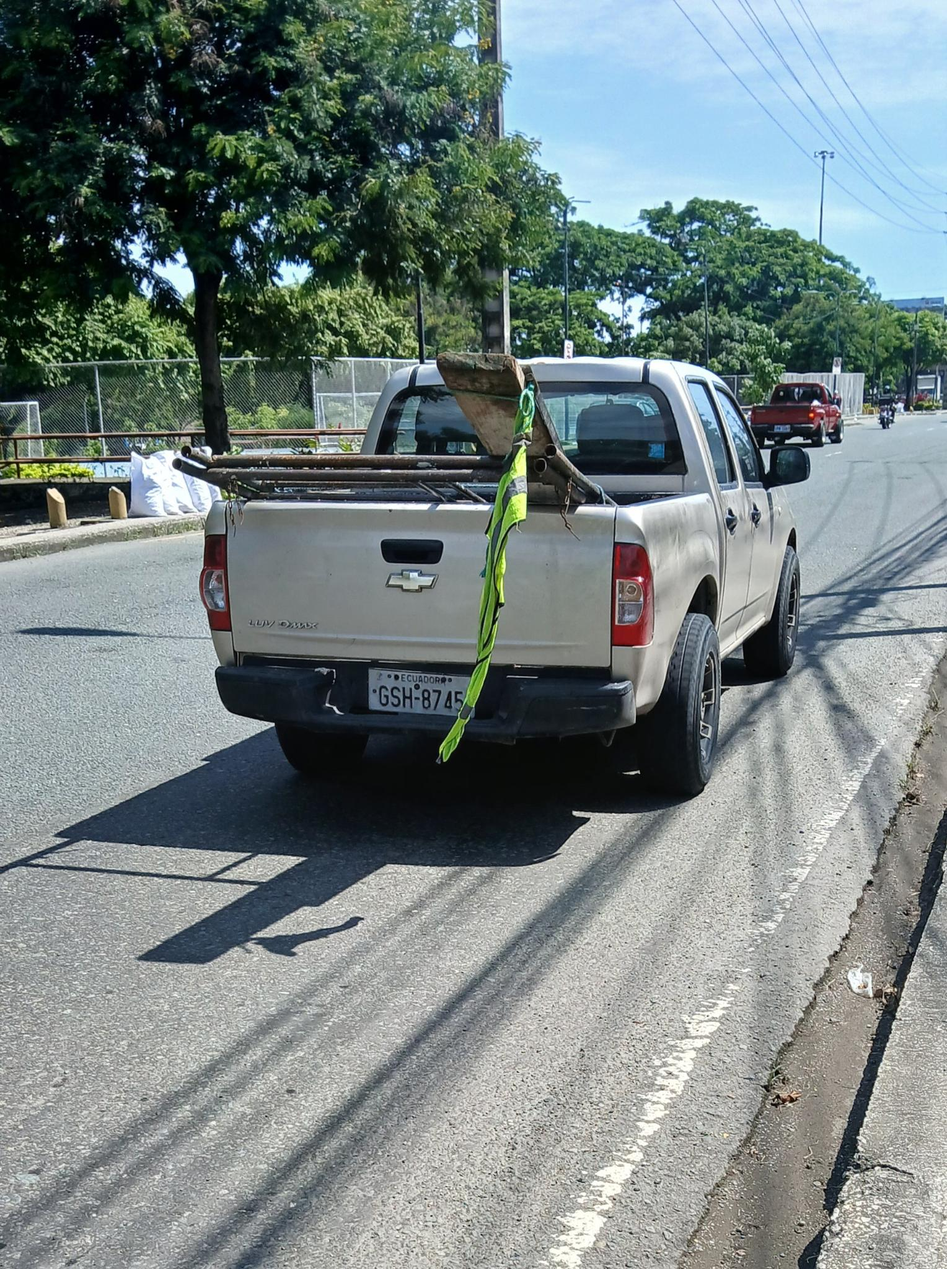license_plate: (369, 668, 474, 713), (774, 423, 790, 431)
